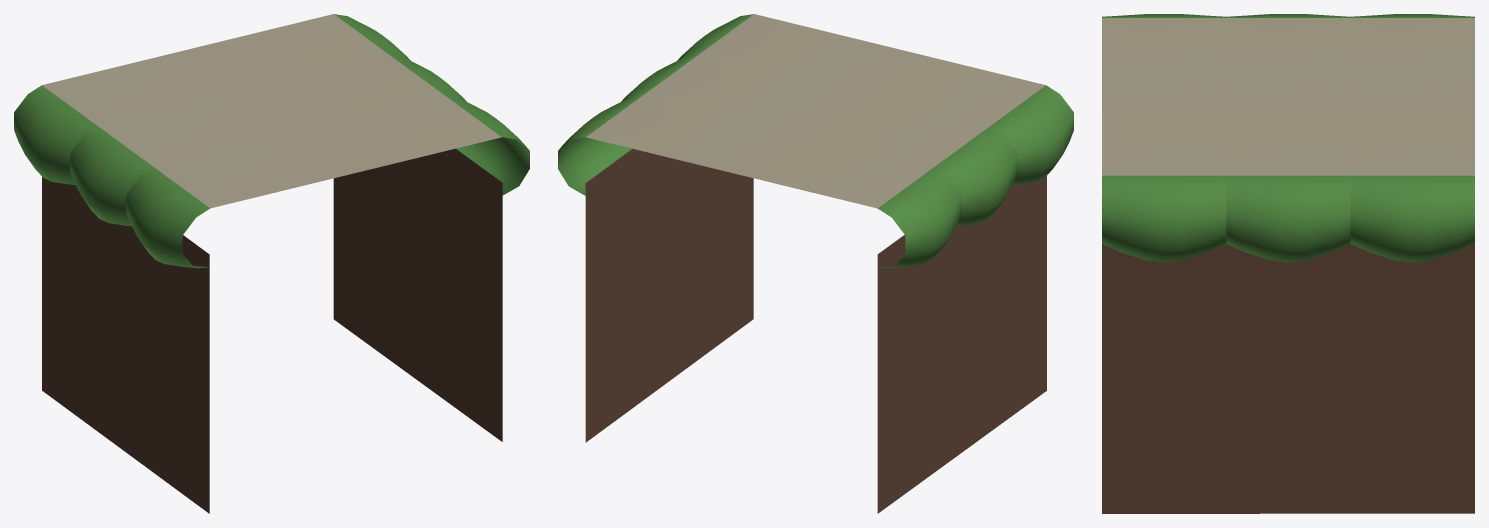
The model's file is ForestTile_TwoSidedEdge.fbx.
The picture shows the model from 3 angles, left to right: view 1: azimuth 30°, elevation 25°; view 2: azimuth 150°, elevation 25°; view 3: azimuth 270°, elevation 25°; orthographic projection. The views are drawn at different scales.
Visible parts, largest first — view 1: ForestTile_TwoSidedEdge; view 2: ForestTile_TwoSidedEdge; view 3: ForestTile_TwoSidedEdge.
Boxes of the visible parts, box(x1,y1,x2,y2) form: ForestTile_TwoSidedEdge: box(14, 14, 529, 513); ForestTile_TwoSidedEdge: box(558, 14, 1073, 513); ForestTile_TwoSidedEdge: box(1102, 14, 1474, 513).
Size of the model in its own units: 113 by 90 by 90.
